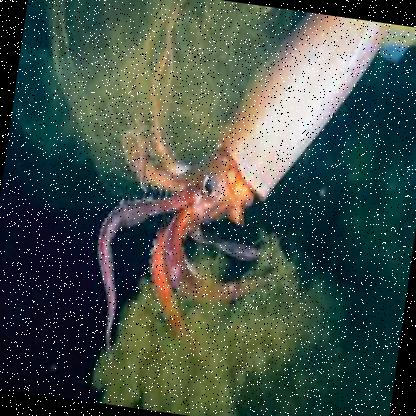colossal_squid: (65, 0, 390, 387)
